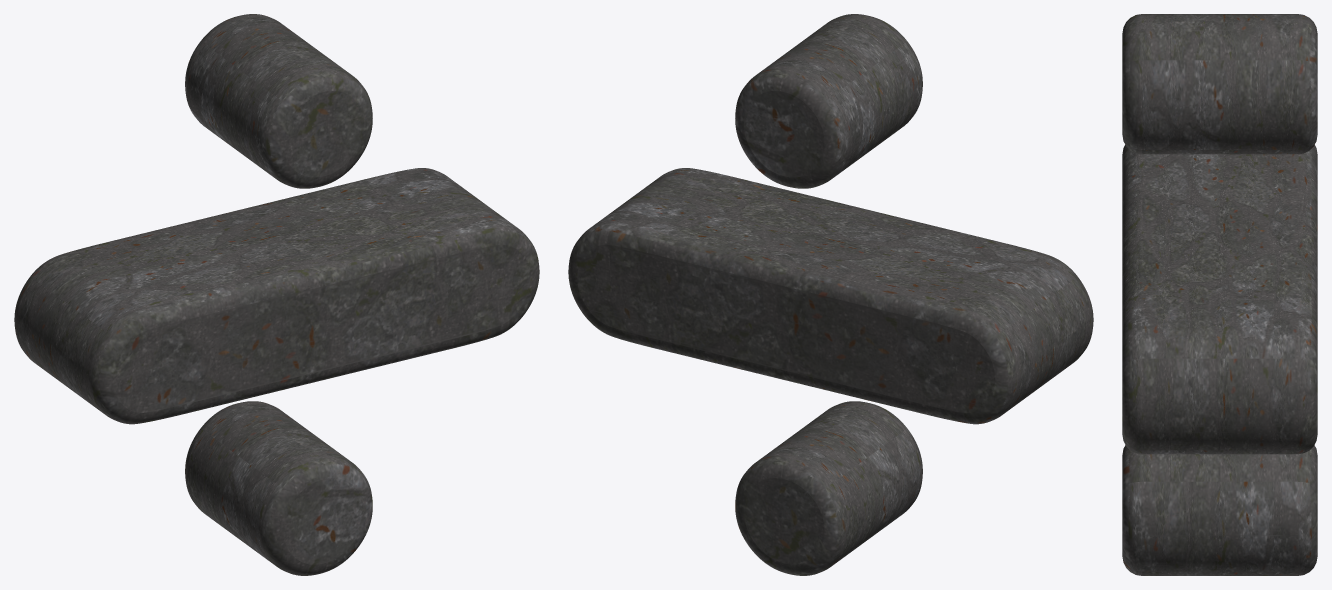
Rendered from Div.fbx.
3 renders of one model, left to right at view 1: azimuth 30°, elevation 25°; view 2: azimuth 150°, elevation 25°; view 3: azimuth 270°, elevation 25°, orthographic. The views are drawn at different scales.
Parts seen in each view (by area): view 1: Text; view 2: Text; view 3: Text.
Boxes of the visible parts, x1,y1,x2,y2 form: Text: (14,14,539,575); Text: (568,14,1093,575); Text: (1122,14,1317,575).
Size of the model in its own units: 28.92 by 31.02 by 10.
1 material, 1 textured.
